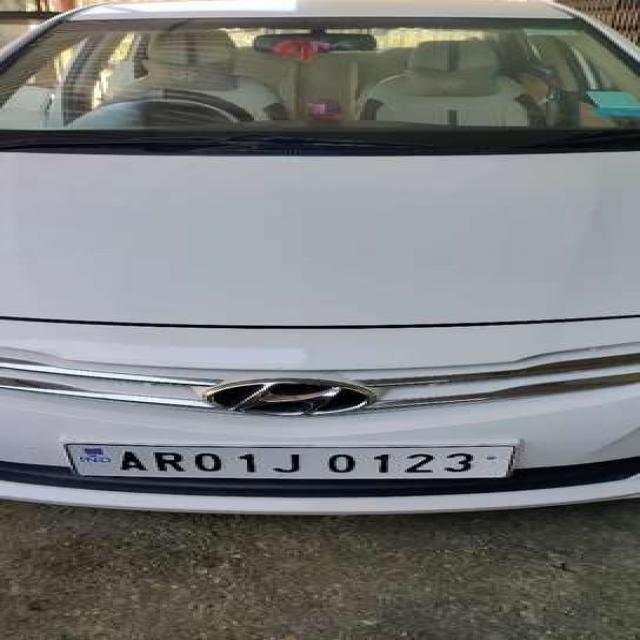Plate: (60, 445, 509, 479)
